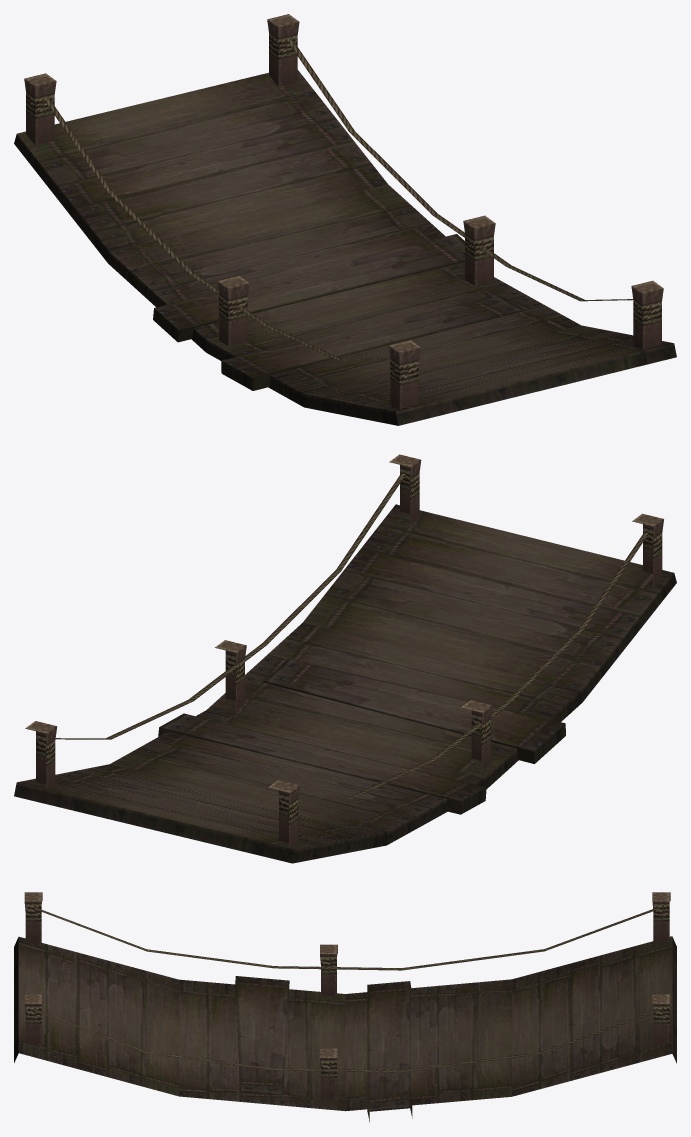
The model's file is yw_wuliangshan_muqiao.FBX.
The picture shows the model from 3 angles, top to bottom: view 1: azimuth 30°, elevation 25°; view 2: azimuth 150°, elevation 25°; view 3: azimuth 270°, elevation 25°; orthographic projection. The views are drawn at different scales.
Parts seen in each view (by area): view 1: yw_wuliangshan_muqiao; view 2: yw_wuliangshan_muqiao; view 3: yw_wuliangshan_muqiao.
Part boxes in pixels (x1,y1,x2,y2): yw_wuliangshan_muqiao: [14, 14, 676, 425]; yw_wuliangshan_muqiao: [14, 454, 676, 863]; yw_wuliangshan_muqiao: [14, 892, 676, 1122].
Size of the model in its own units: 418 by 176 by 911.
